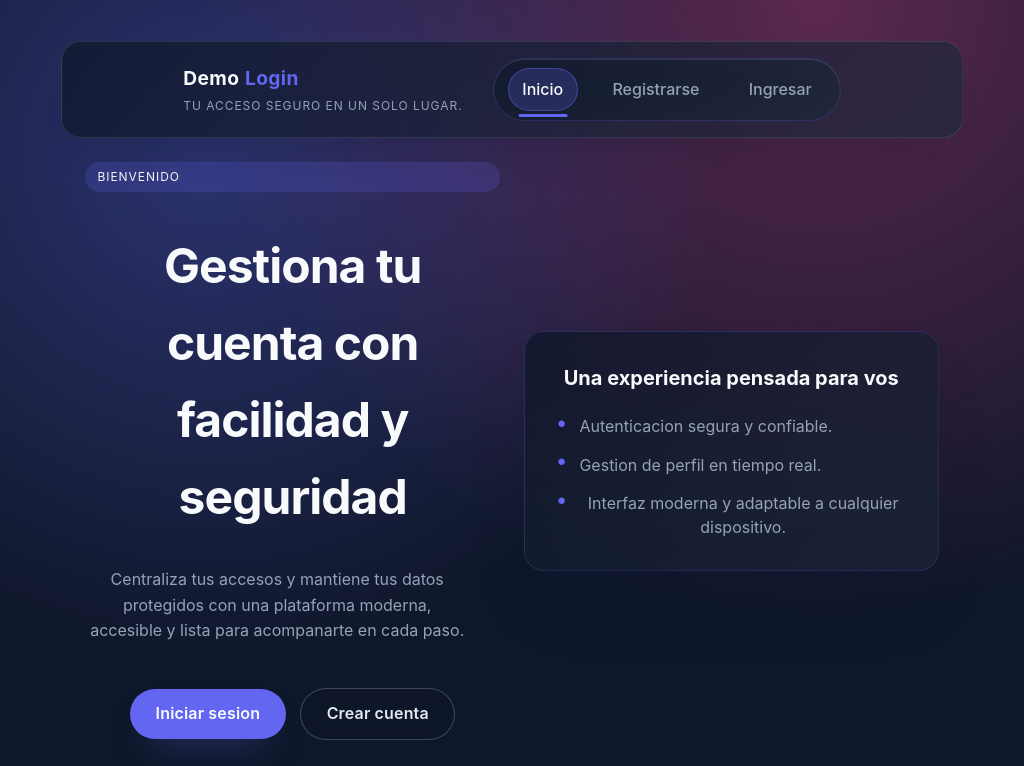
Errores durante el registro › muestra un mensaje claro cuando la API rechaza el registro
Click the link "Crear cuenta": (378, 714) [300,688,455,740]
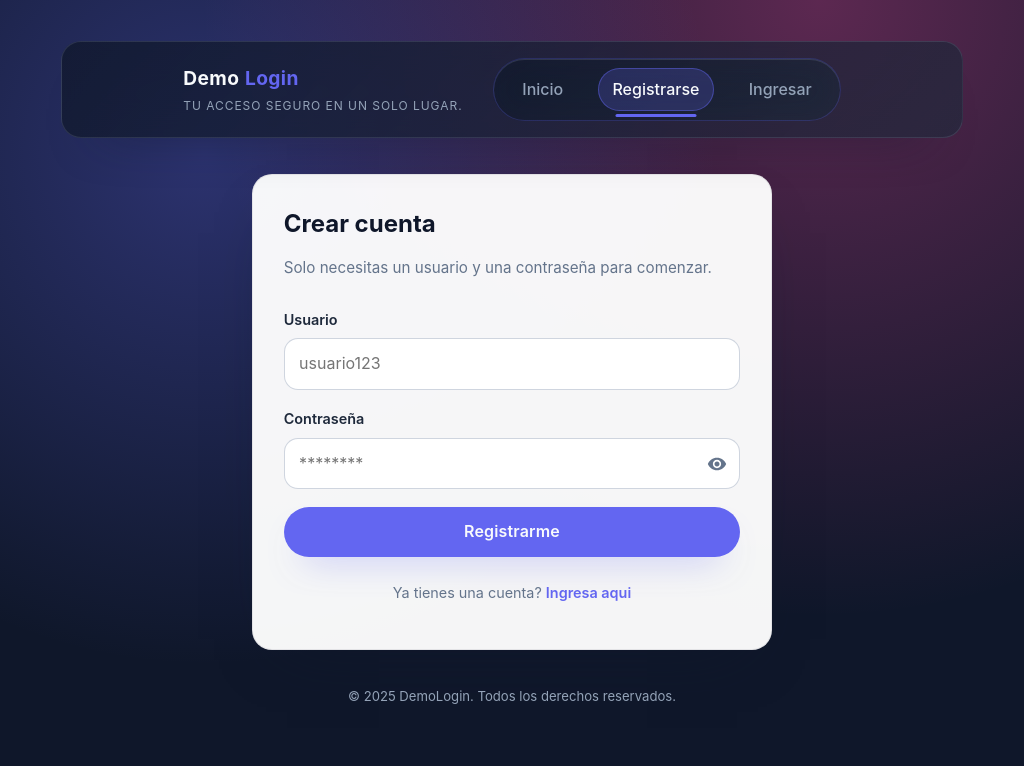
In the field with id "register-username": (513, 364) [284,338,741,390], type "usuarioExistente"
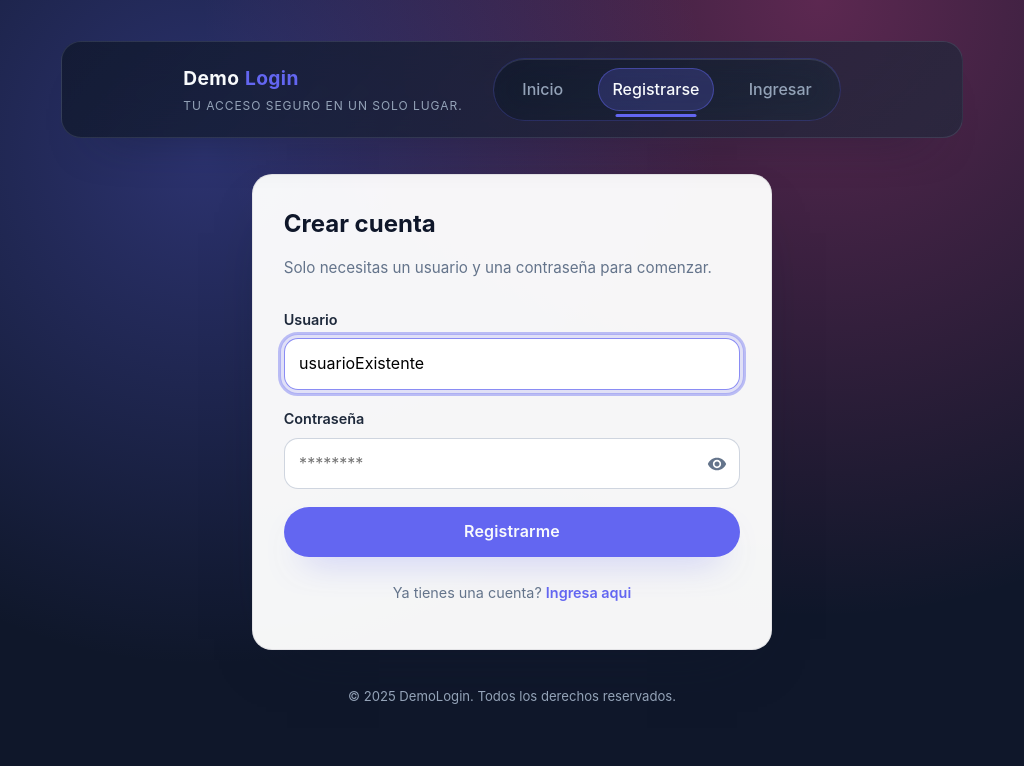
In the password field with id "register-password": (513, 464) [284,438,741,490], type "ClaveSegura!A"
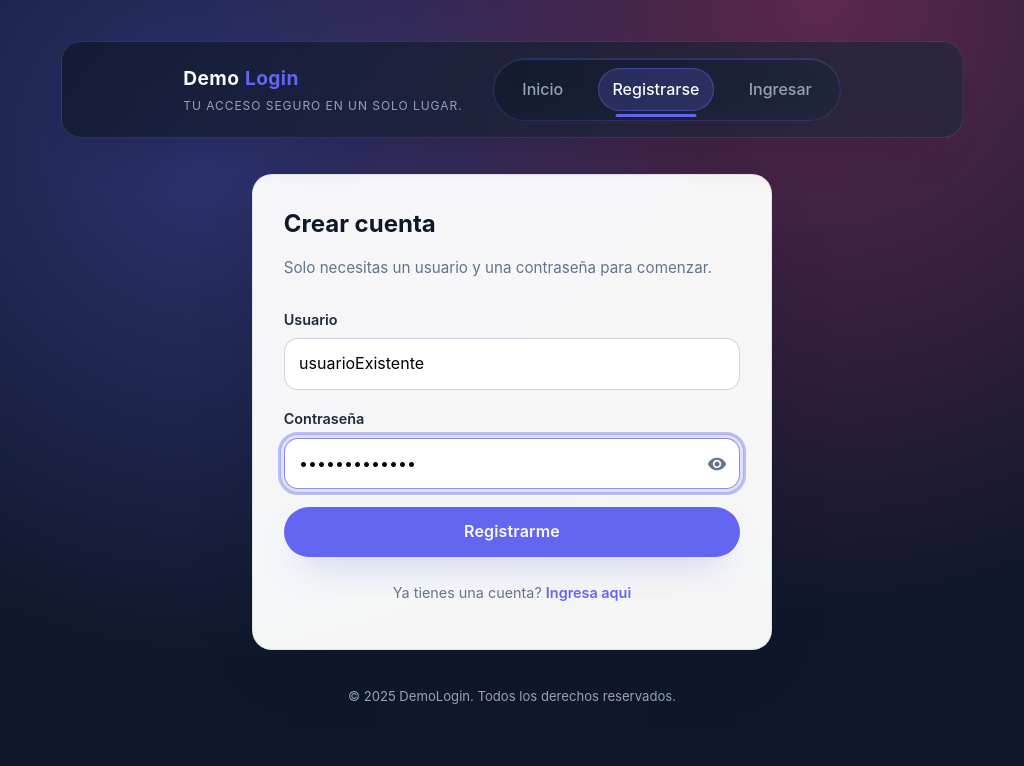
Click the button "Registrarme": (513, 532) [284,507,741,557]
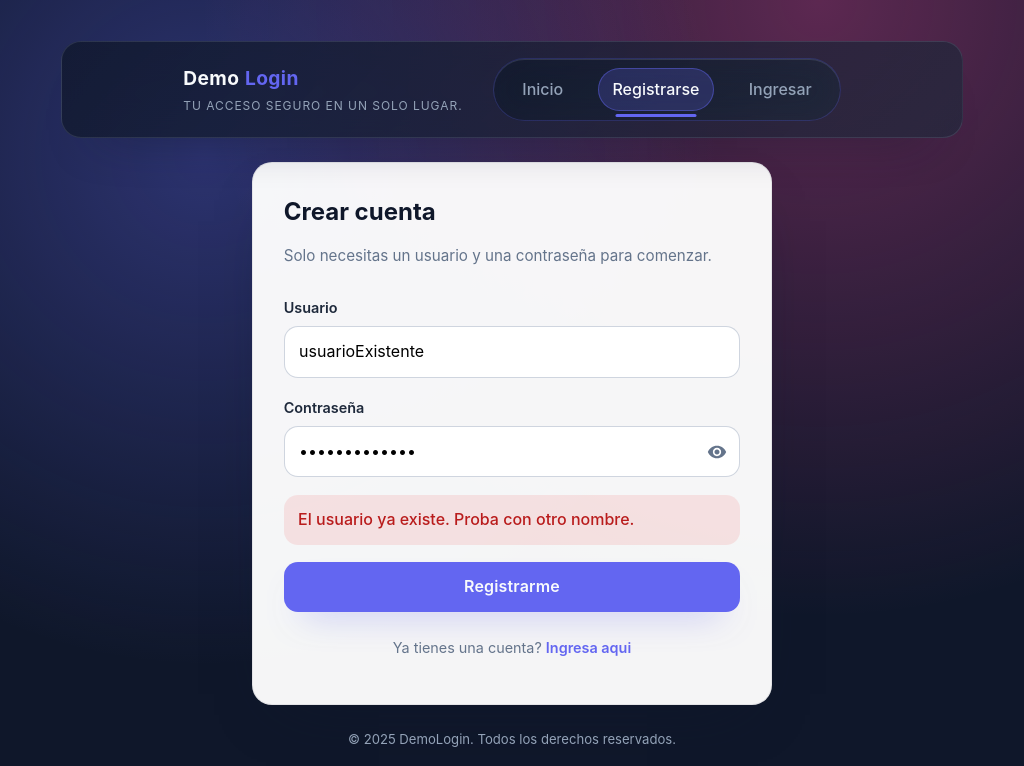
Now the text "El usuario ya existe. Proba con otro nombre." is shown, box [284,495,740,545]
